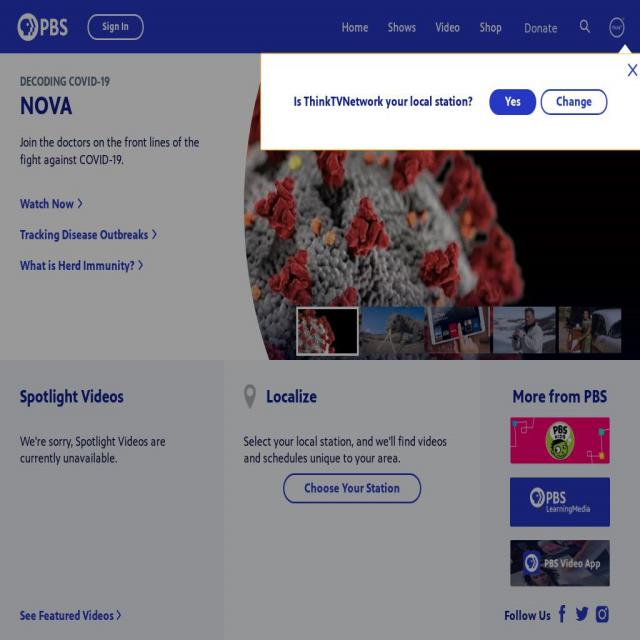follow-options: (498, 598, 614, 635)
login-option: (86, 12, 144, 40)
navigation-links: (14, 186, 165, 292), (334, 13, 566, 40)
search: (575, 14, 599, 44)
